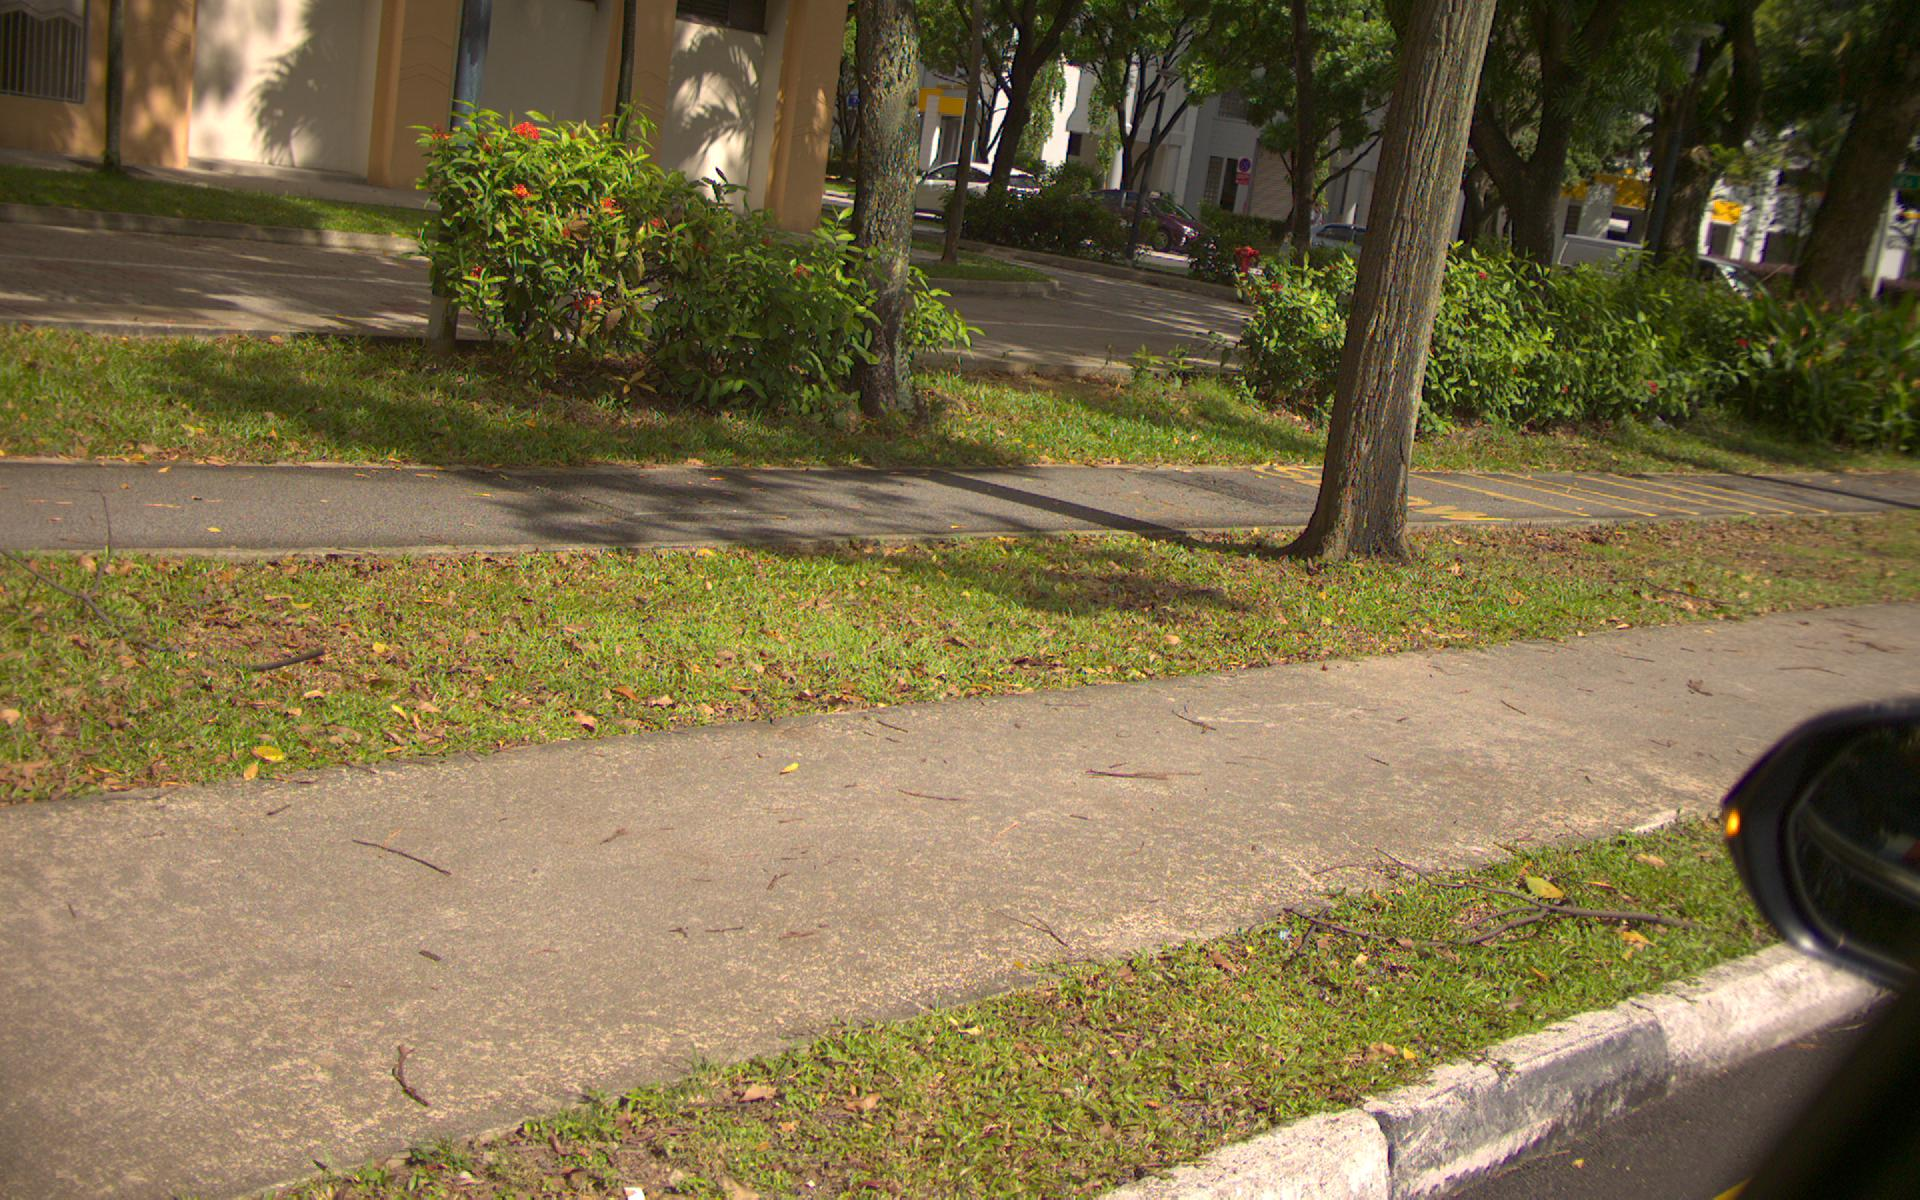pathway_low: (10, 807, 908, 1013), (6, 466, 1330, 525)
road_turf_low: (1, 559, 1303, 662), (4, 328, 900, 465)
